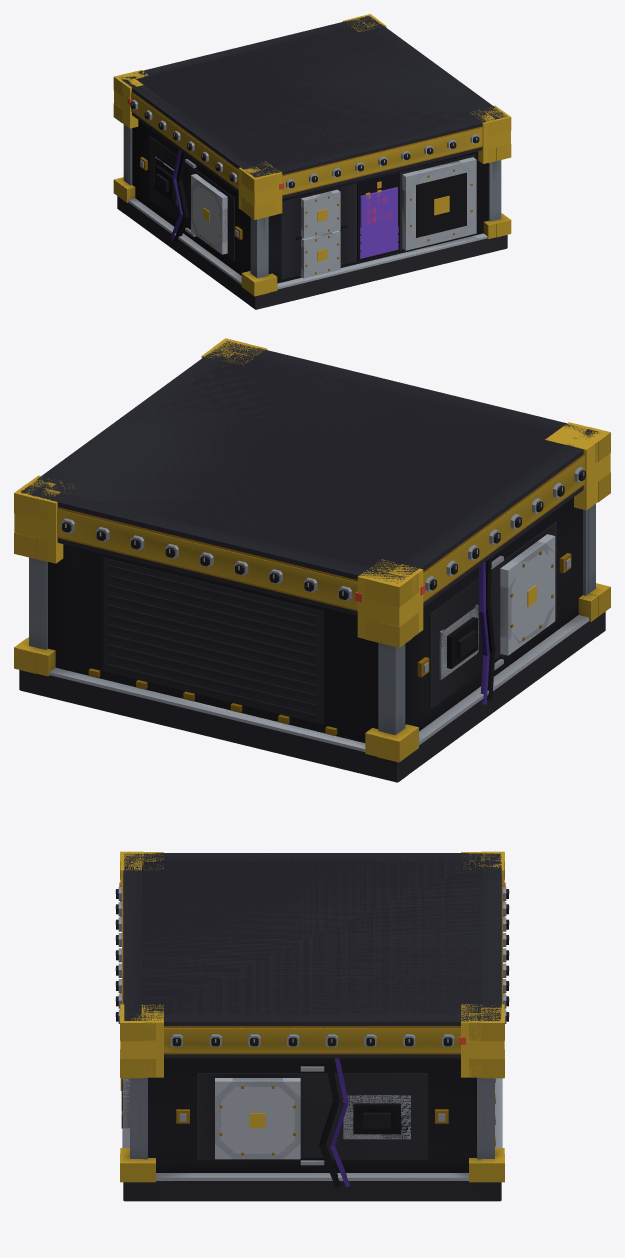
Rendered from GoldenMicFloor.fbx.
3 renders of one model, top to bottom at view 1: azimuth 30°, elevation 25°; view 2: azimuth 150°, elevation 25°; view 3: azimuth 270°, elevation 25°, orthographic. The views are drawn at different scales.
Parts seen in each view (by area): view 1: GM_S_All, GM_F_Smooth, GM_F_Quiet, GM_F_Rings, GM_F_Glass; view 2: GM_S_All, GM_F_Smooth, GM_F_Quiet, GM_F_Rings; view 3: GM_S_All, GM_F_Smooth, GM_F_Quiet, GM_F_Rings.
Part boxes in pixels (bbox=[...]): GM_S_All: bbox=[114, 15, 510, 288]; GM_F_Smooth: bbox=[113, 14, 511, 309]; GM_F_Quiet: bbox=[117, 16, 507, 309]; GM_F_Rings: bbox=[132, 120, 488, 283]; GM_F_Glass: bbox=[127, 98, 398, 258]; GM_S_All: bbox=[14, 339, 610, 751]; GM_F_Smooth: bbox=[14, 338, 610, 782]; GM_F_Quiet: bbox=[20, 341, 605, 782]; GM_F_Rings: bbox=[48, 497, 582, 742]; GM_S_All: bbox=[120, 852, 504, 1180]; GM_F_Smooth: bbox=[115, 851, 509, 1201]; GM_F_Quiet: bbox=[124, 853, 500, 1200]; GM_F_Rings: bbox=[148, 1058, 476, 1172].
Size of the model in its own units: 60 by 20 by 60.
